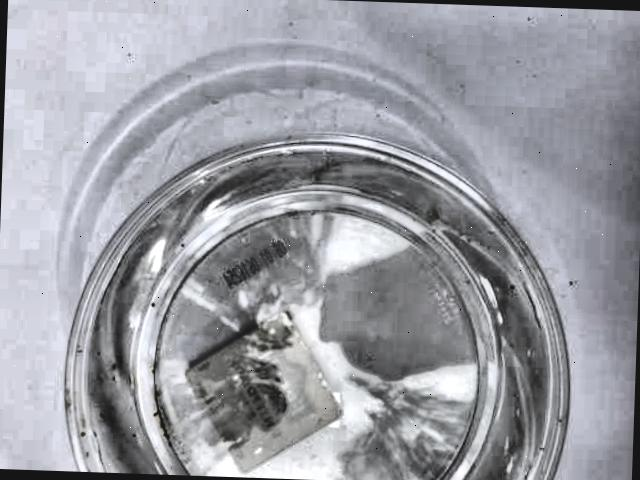Plastic: (43, 45, 607, 480)
